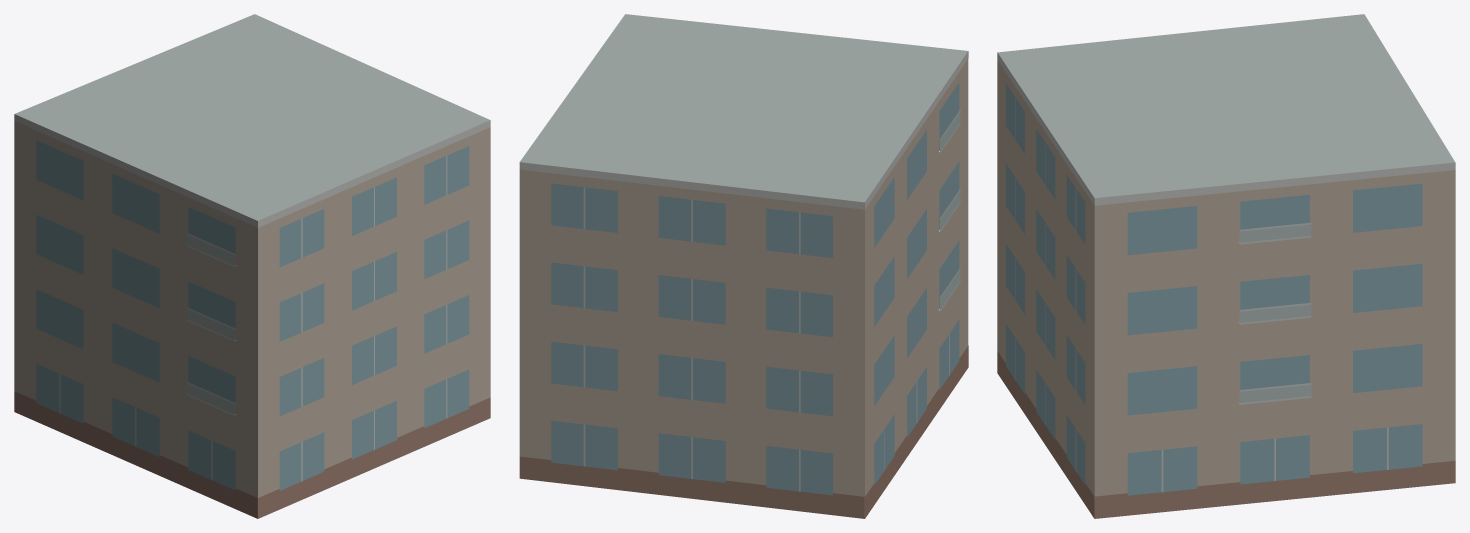
Rendered from survey-upis-32927800.glb.
3 views of the same model, side by side, from view 1: azimuth 30°, elevation 25°; view 2: azimuth 150°, elevation 25°; view 3: azimuth 270°, elevation 25° (orthographic). The views are drawn at different scales.
Parts seen in each view (by area): view 1: survey-upis-32927800.tmp; view 2: survey-upis-32927800.tmp; view 3: survey-upis-32927800.tmp.
Boxes of the visible parts, left/top/right/bottom form: survey-upis-32927800.tmp: left=14, top=14, right=490, bottom=518; survey-upis-32927800.tmp: left=519, top=14, right=968, bottom=518; survey-upis-32927800.tmp: left=997, top=14, right=1455, bottom=518.
Bounding box in the file's own units: 12.95 × 10.5 × 13.61.
